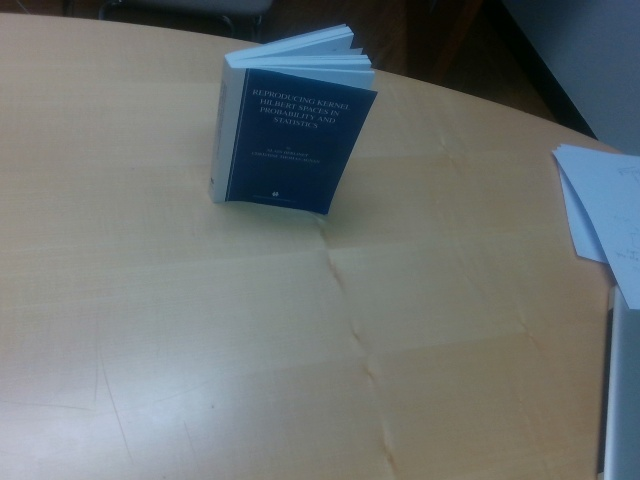book: (210, 24, 378, 218)
